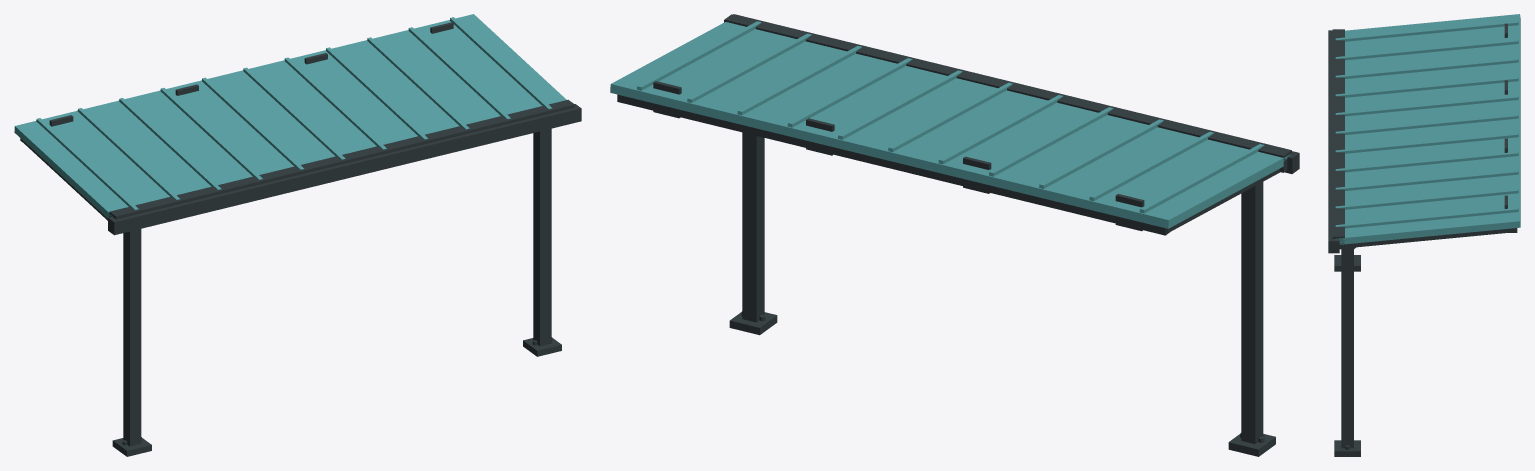
Rendered from yun_storefront_canopy_v05_scale_r4.glb.
3 views of the same model, side by side, from view 1: azimuth 30°, elevation 25°; view 2: azimuth 150°, elevation 25°; view 3: azimuth 270°, elevation 25° (orthographic). The views are drawn at different scales.
Visible parts, largest first — view 1: Canopy_RoofSheet, RainGutter, Frame_FrontBeam, SupportPost_L, SupportPost_R, RoofRidge_03, RoofRidge_00, RoofRidge_05, RoofRidge_06, RoofRidge_09, RoofRidge_07, RoofRidge_10 (+4 smaller); view 2: Canopy_RoofSheet, SupportPost_L, Frame_FrontBeam, Frame_WallLedger, SupportPost_R, RoofRidge_00, RoofRidge_04, RoofRidge_05, RoofRidge_07, RoofRidge_08, RoofRidge_01, RoofRidge_02 (+4 smaller); view 3: Canopy_RoofSheet, Frame_FrontBeam, SupportPost_R, RainGutter, RoofRidge_09, RoofRidge_02, RoofRidge_05, RoofRidge_08, RoofRidge_03, RoofRidge_01, RoofRidge_04, RoofRidge_10 (+6 smaller).
Boxes of the visible parts, x1,y1,x2,y2 form: Canopy_RoofSheet: (14,14,566,218); RainGutter: (108,104,581,235); Frame_FrontBeam: (109,99,574,219); SupportPost_L: (123,229,141,446); SupportPost_R: (533,128,551,346); RoofRidge_03: (160,88,262,179); RoofRidge_00: (36,118,138,210); RoofRidge_05: (243,67,345,159); RoofRidge_06: (284,57,386,149); RoofRidge_09: (408,27,510,119); RoofRidge_07: (326,47,428,139); RoofRidge_10: (450,17,552,109); Canopy_RoofSheet: (610,22,1290,228); SupportPost_L: (1241,182,1263,443); Frame_FrontBeam: (725,14,1291,172); Frame_WallLedger: (617,94,1169,235); SupportPost_R: (742,132,764,322); RoofRidge_00: (1139,144,1264,213); RoofRidge_04: (938,95,1063,164); RoofRidge_05: (888,82,1012,151); RoofRidge_07: (787,58,912,127); RoofRidge_08: (737,46,861,115); RoofRidge_01: (1089,131,1213,201); RoofRidge_02: (1039,119,1163,188); Canopy_RoofSheet: (1334,14,1520,244); Frame_FrontBeam: (1332,29,1344,249); SupportPost_R: (1341,247,1353,448); RainGutter: (1328,30,1339,253); RoofRidge_09: (1335,189,1518,209); RoofRidge_02: (1335,58,1518,78); RoofRidge_05: (1335,114,1518,134); RoofRidge_08: (1335,170,1518,190); RoofRidge_03: (1335,77,1518,97); RoofRidge_01: (1335,39,1518,60); RoofRidge_04: (1335,95,1518,116); RoofRidge_10: (1335,207,1518,228).
Size of the model in its own units: 3.11 by 1.68 by 1.2.
